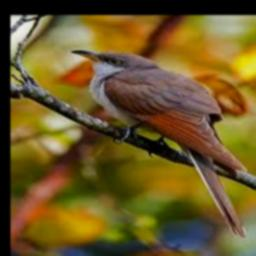Cuckoo: (71, 49, 248, 237)
